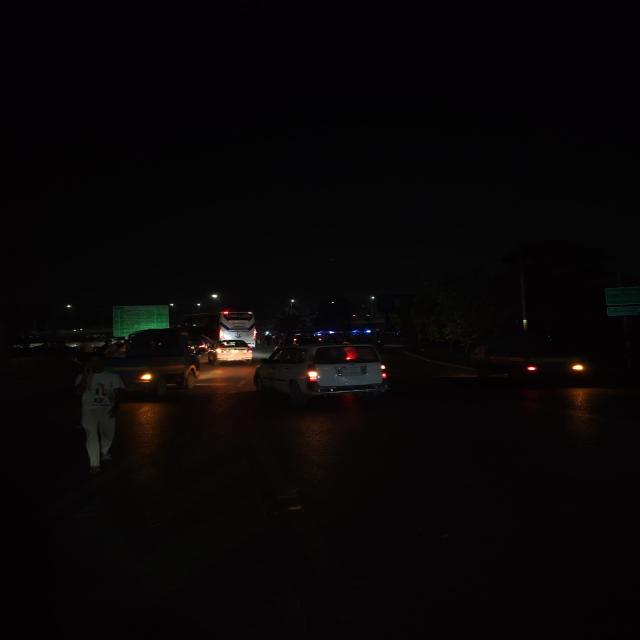bus: (214, 311, 260, 344)
car: (250, 340, 395, 408), (211, 338, 256, 364)
pedestrian: (71, 364, 129, 473)
pickup_van: (465, 329, 592, 385), (103, 329, 203, 395)
